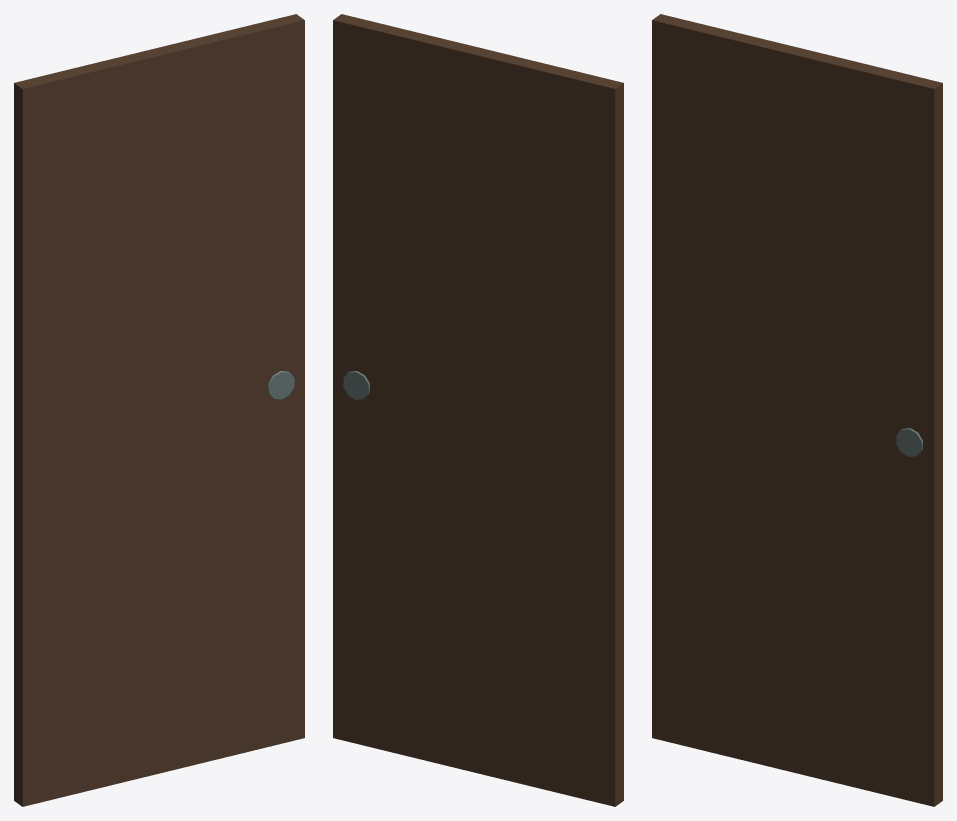
Rendered from Door_Int_Door1.fbx.
3 views of the same model, side by side, from view 1: azimuth 30°, elevation 25°; view 2: azimuth 150°, elevation 25°; view 3: azimuth 330°, elevation 25° (orthographic).
Parts seen in each view (by area): view 1: Door (Interior), Door Knob Base (Interior); view 2: Door (Interior), Door Knob Base (Interior); view 3: Door (Interior), Door Knob Base (Interior).
Part boxes in pixels (x1,y1,x2,y2): Door (Interior): (14,14,304,806); Door Knob Base (Interior): (268,371,294,399); Door (Interior): (333,14,623,806); Door Knob Base (Interior): (343,371,369,399); Door (Interior): (652,14,942,806); Door Knob Base (Interior): (896,428,922,456).
Bounding box in the file's own units: 81.57 × 198 × 5.4.
